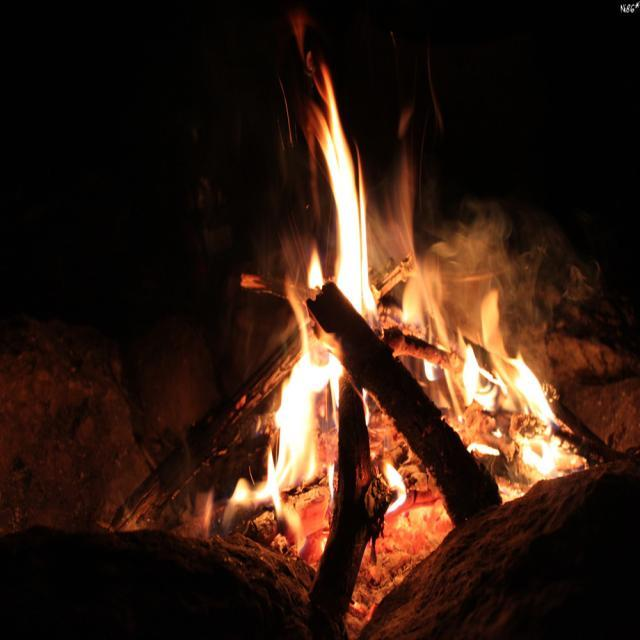Fire: (276, 374, 322, 466), (342, 175, 358, 298), (517, 361, 542, 416)
